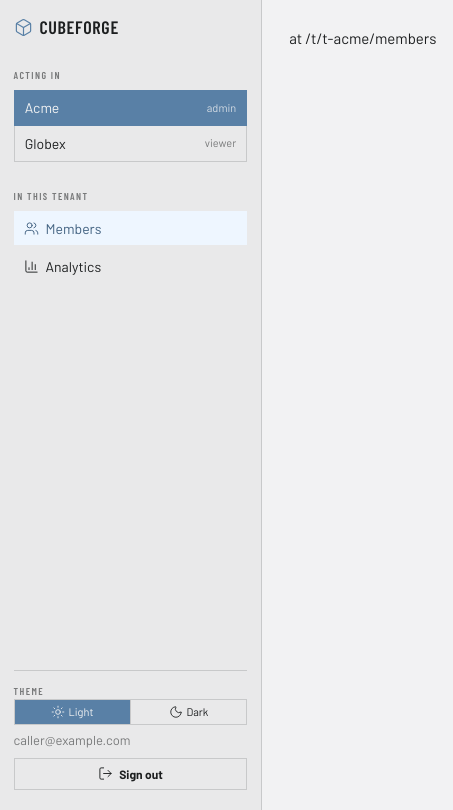
the analytics section › takes the person there when it is pressed
Expected: the text "caller@example.com" is shown, [14,732,130,748]
Click the link "Analytics" at [62, 266], box [24,258,101,274]
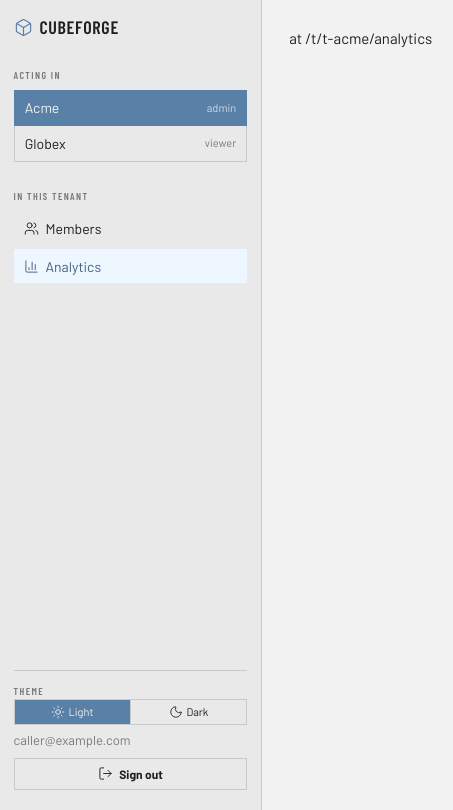
Expected: the text "at /t/t-acme/analytics" is shown, [289,29,432,47]
